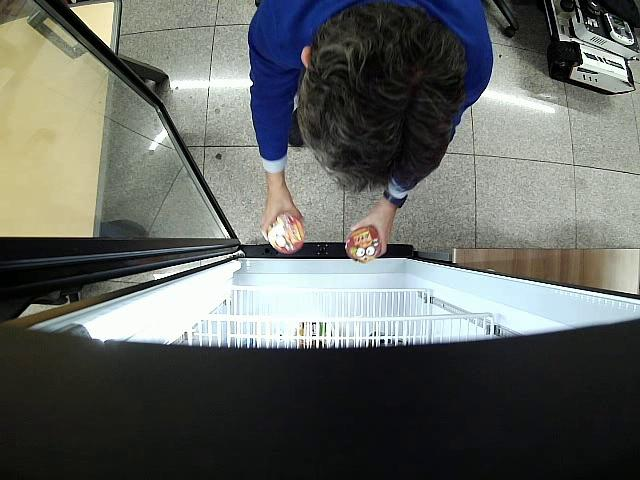00_hand: (260, 186, 305, 240), (350, 208, 390, 255)
06_nuguri_S: (268, 214, 305, 254), (345, 225, 382, 263)
